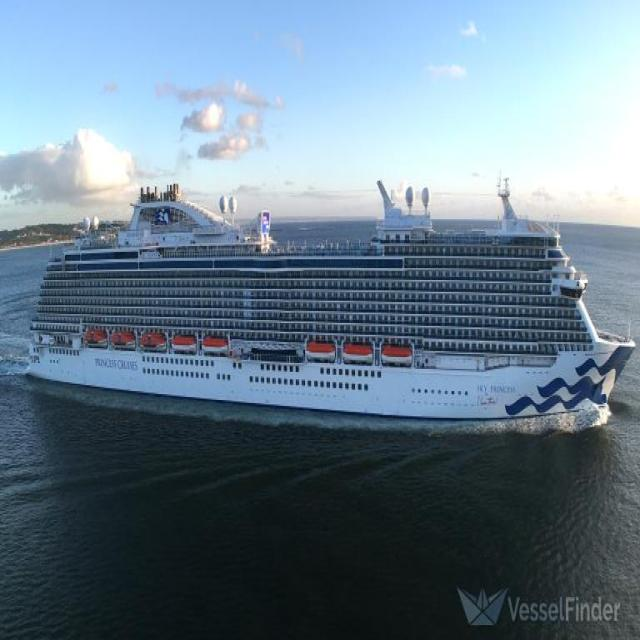PassengerShip: (9, 110, 640, 473)
